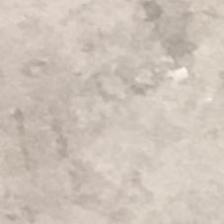Non_Crack: (10, 44, 207, 170)
